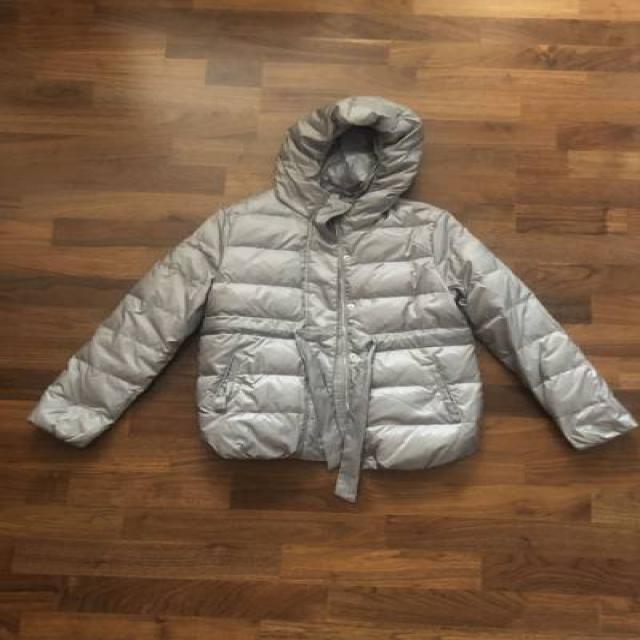Clothes -Biodegradable-: (26, 98, 635, 467)
